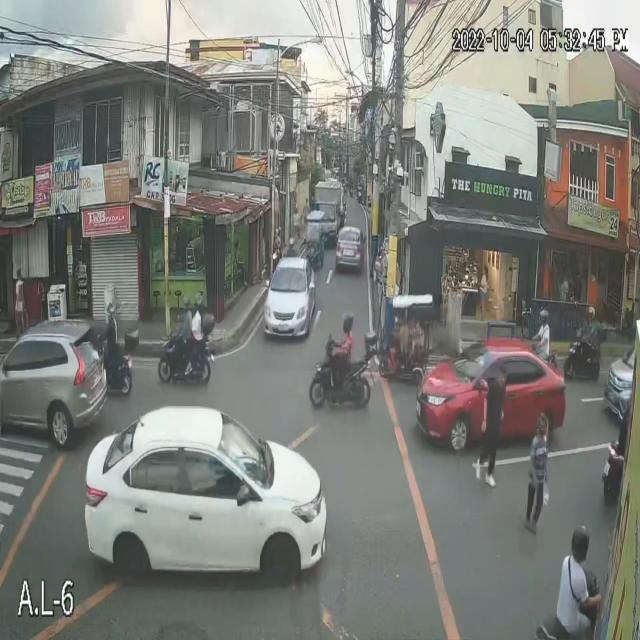Full-Faced: (568, 517, 591, 554), (340, 309, 355, 337), (192, 290, 205, 316), (538, 305, 549, 331), (582, 306, 596, 324), (105, 302, 116, 320), (181, 295, 191, 313)
